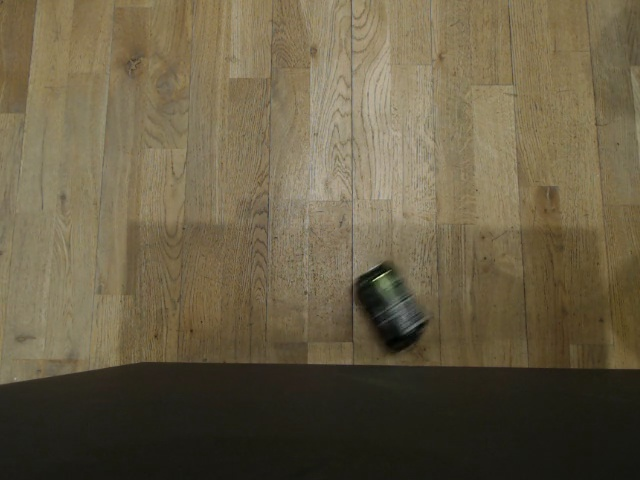beer: (348, 257, 442, 359)
